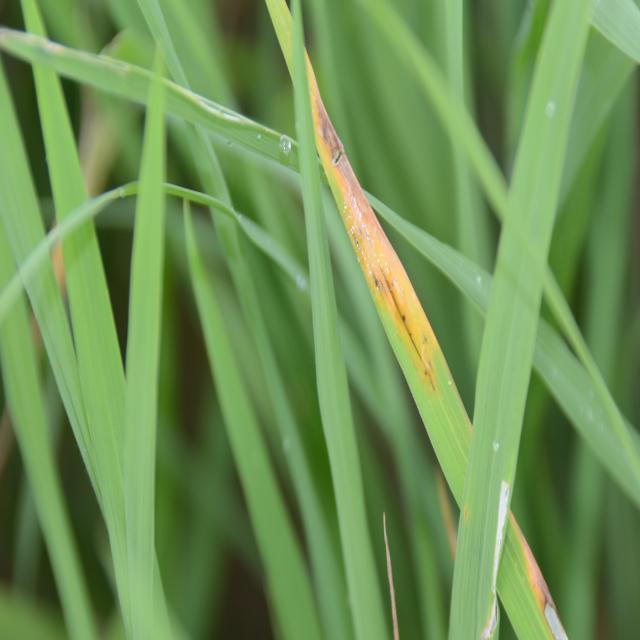Rice Tungro: (279, 17, 446, 408)
